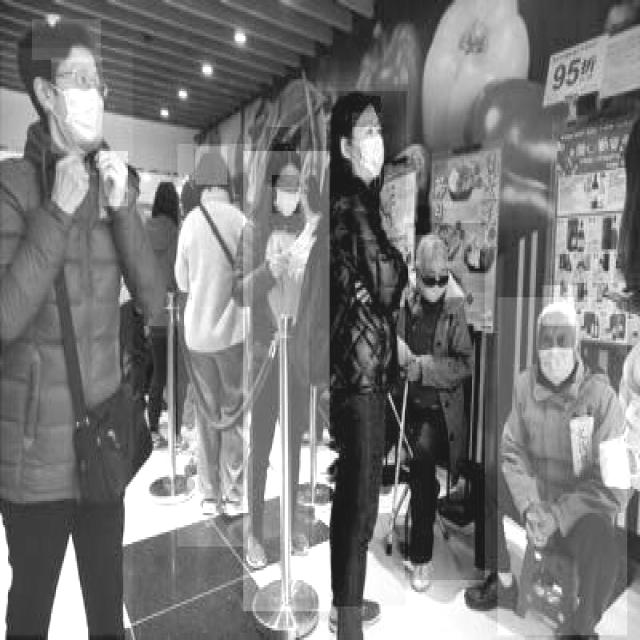face_mask: (51, 58, 104, 154), (538, 324, 576, 384), (352, 112, 384, 180), (272, 175, 301, 216), (419, 264, 450, 302)
hand_noglove: (43, 151, 93, 216), (99, 151, 130, 209), (526, 501, 556, 549)
head_nohelmet: (32, 19, 102, 62), (266, 127, 302, 187), (414, 206, 448, 264), (195, 146, 229, 187), (542, 285, 574, 326), (348, 96, 382, 127)
person: (1, 48, 134, 638), (309, 91, 408, 609), (498, 297, 628, 638), (243, 151, 331, 614), (178, 144, 252, 549), (405, 223, 486, 582)
shoes: (462, 556, 524, 619), (240, 519, 270, 572)
